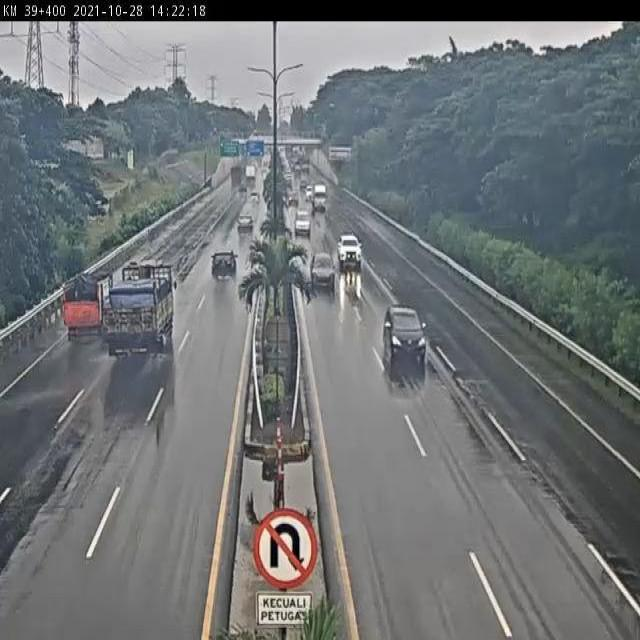car: (376, 301, 431, 367), (208, 246, 240, 282), (336, 231, 363, 268), (309, 252, 335, 288), (293, 205, 312, 236), (235, 212, 257, 237), (249, 186, 262, 206)
small truck: (105, 260, 188, 369), (57, 268, 106, 355)
